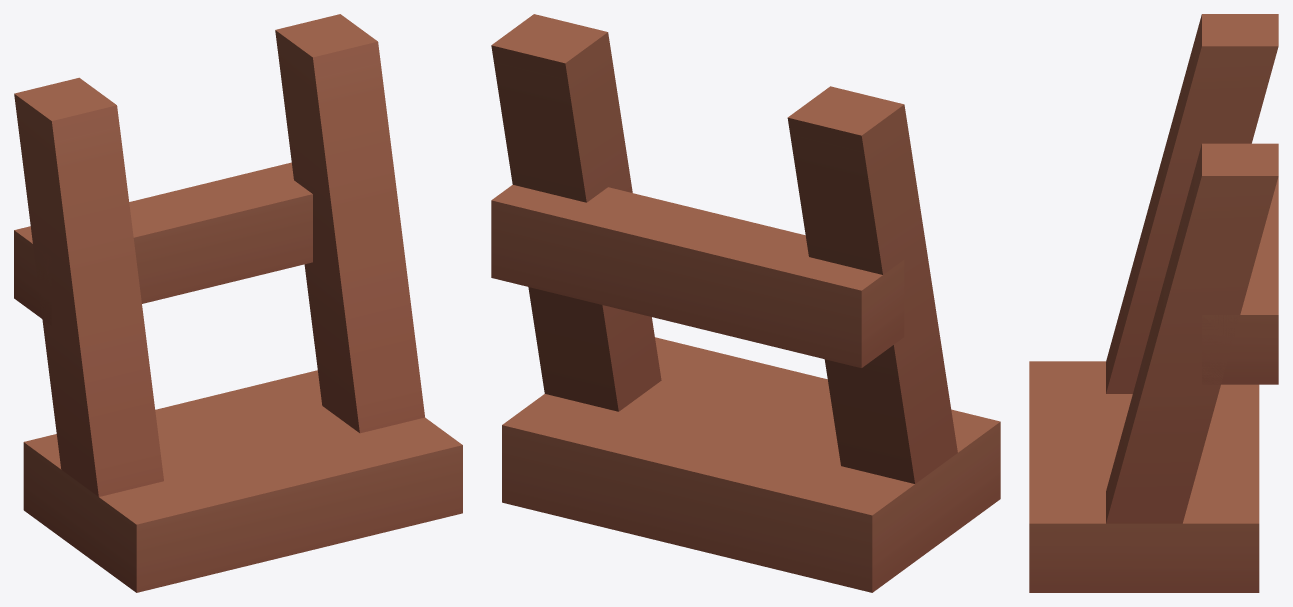
The model's file is weaponrack.glb.
The picture shows the model from 3 angles, left to right: view 1: azimuth 30°, elevation 25°; view 2: azimuth 150°, elevation 25°; view 3: azimuth 270°, elevation 25°; orthographic projection. The views are drawn at different scales.
Parts seen in each view (by area): view 1: weaponrack; view 2: weaponrack; view 3: weaponrack.
Boxes of the visible parts, bbox=[...] form: weaponrack: bbox=[14, 14, 462, 592]; weaponrack: bbox=[491, 14, 1000, 592]; weaponrack: bbox=[1029, 14, 1278, 592].
Size of the model in its own units: 0.2 by 0.24 by 0.13.
Materials: 1 (1 with a texture image).
